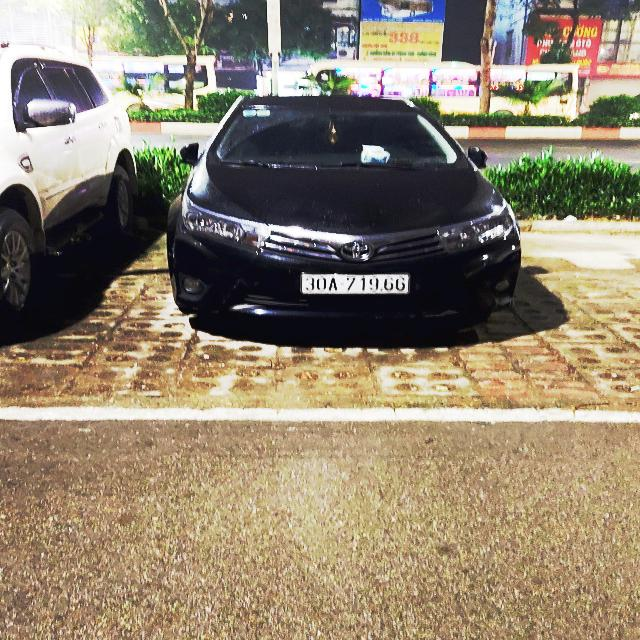license_plate: (297, 271, 415, 298)
